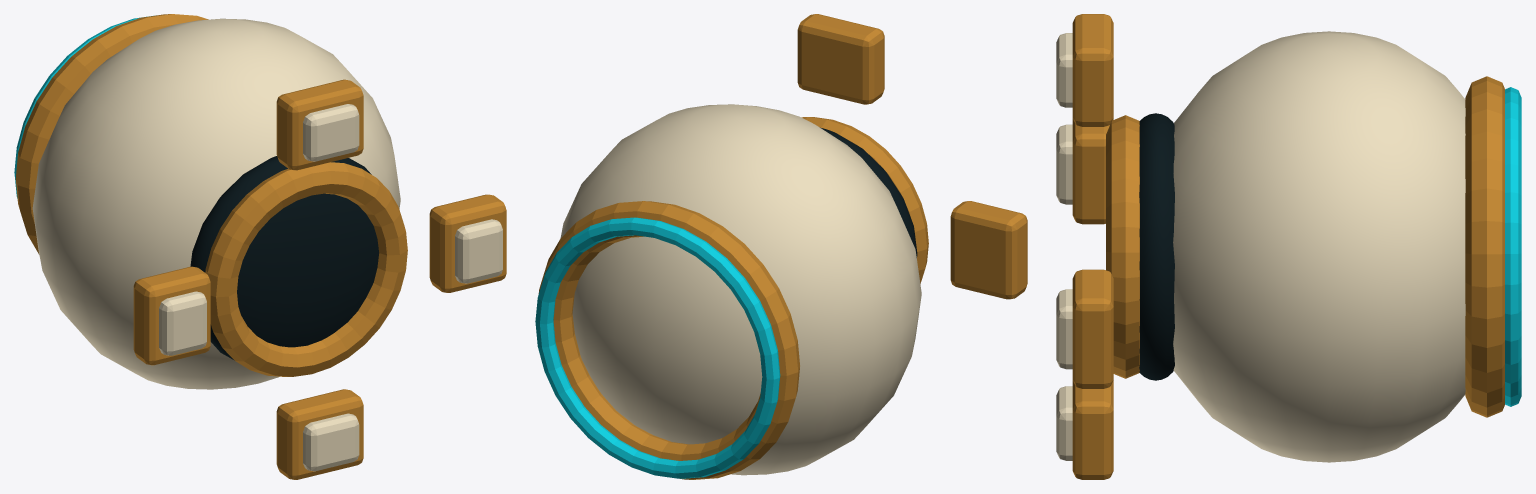
Rendered from FearWormHead_4.obj.
3 views of the same model, side by side, from view 1: azimuth 30°, elevation 25°; view 2: azimuth 150°, elevation 25°; view 3: azimuth 270°, elevation 25° (orthographic). The views are drawn at different scales.
Visible parts, largest first — view 1: Armoured_head; view 2: Armoured_head; view 3: Armoured_head.
Part boxes in pixels (x1,y1,x2,y2): Armoured_head: (14, 14, 506, 479); Armoured_head: (535, 14, 1027, 479); Armoured_head: (1056, 14, 1521, 479).
Bounding box in the file's own units: 2.2 × 2.2 × 2.15.
1 material, 1 textured.
